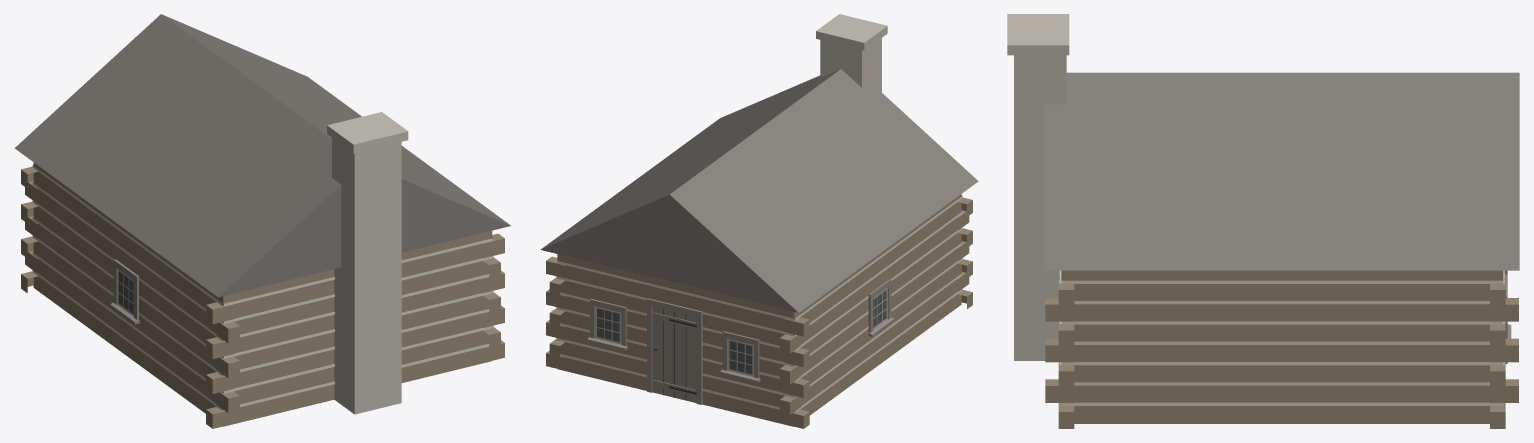
Rendered from recon_1835_west_026__inferred_1835.glb.
The picture shows the model from 3 angles, left to right: view 1: azimuth 30°, elevation 25°; view 2: azimuth 150°, elevation 25°; view 3: azimuth 270°, elevation 25°; orthographic projection. The views are drawn at different scales.
Parts seen in each view (by area): view 1: recon_1835_west_026__inferred_1835; view 2: recon_1835_west_026__inferred_1835; view 3: recon_1835_west_026__inferred_1835.
Boxes of the visible parts, bbox=[...] form: recon_1835_west_026__inferred_1835: bbox=[14, 14, 510, 428]; recon_1835_west_026__inferred_1835: bbox=[540, 14, 978, 428]; recon_1835_west_026__inferred_1835: bbox=[1007, 14, 1519, 428].
Size of the model in its own units: 5.99 by 5.32 by 7.78.
